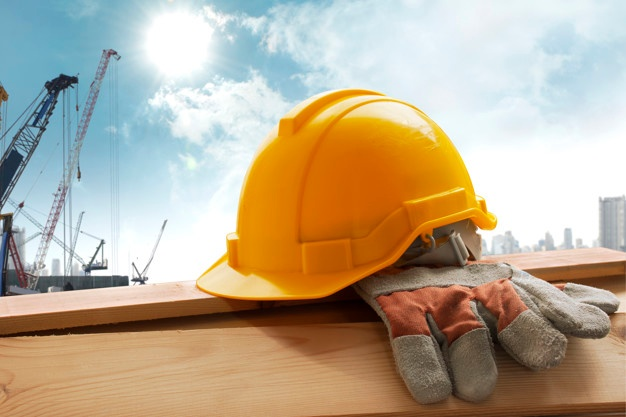casco: (192, 86, 500, 302)
